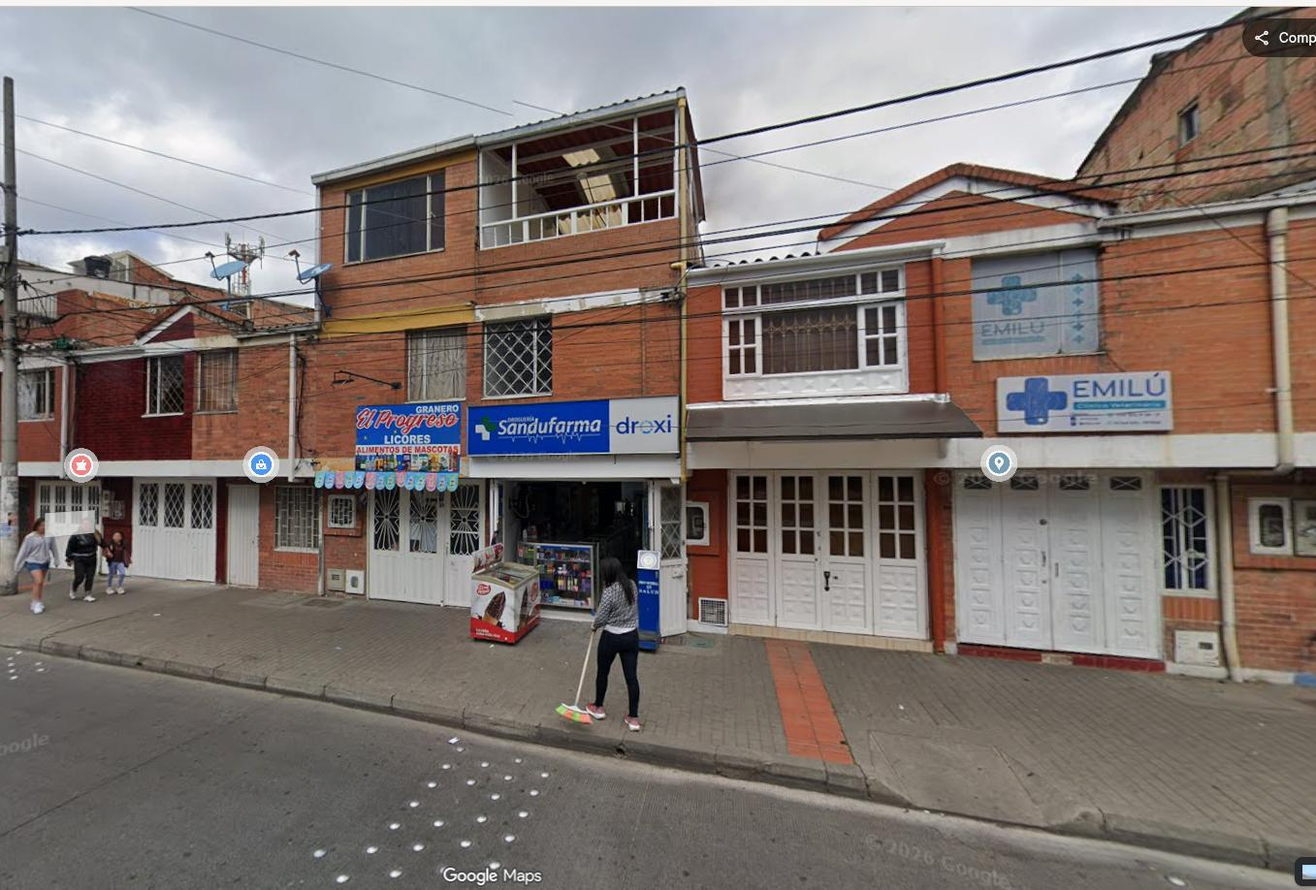casa: (912, 38, 1315, 678), (683, 192, 980, 644), (467, 90, 703, 609)
poste: (0, 77, 18, 594)
